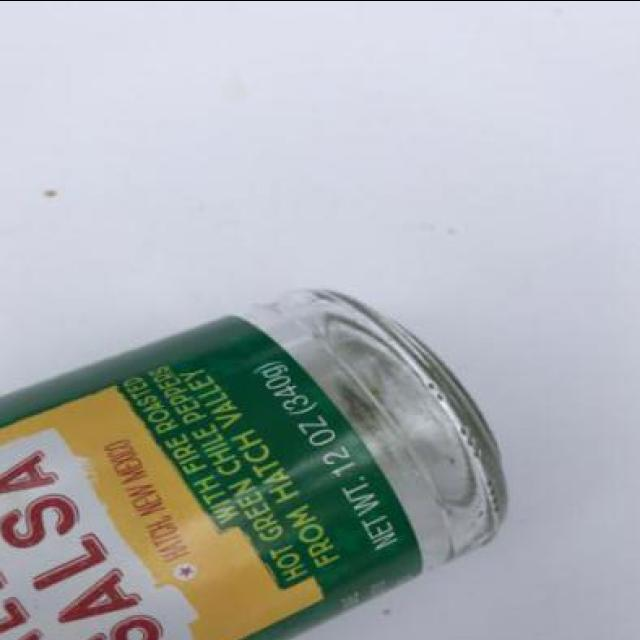kaca: (0, 289, 509, 640)
